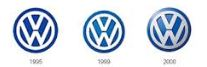vw: (10, 7, 61, 55), (145, 7, 194, 53), (80, 9, 128, 55)
